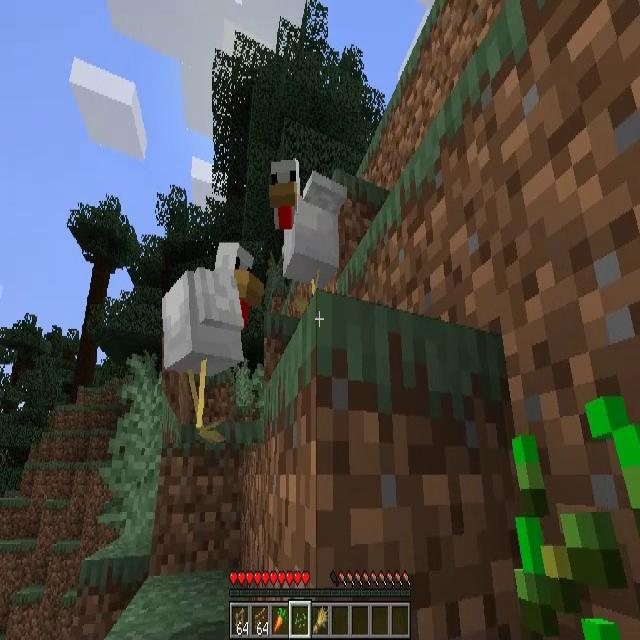duck: (162, 242, 264, 444), (270, 160, 346, 299)
